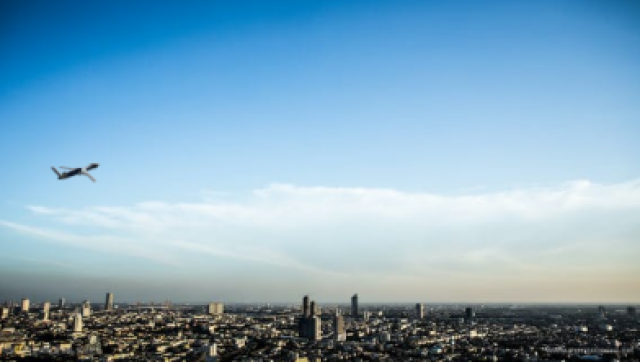military drone: (49, 162, 100, 182)
